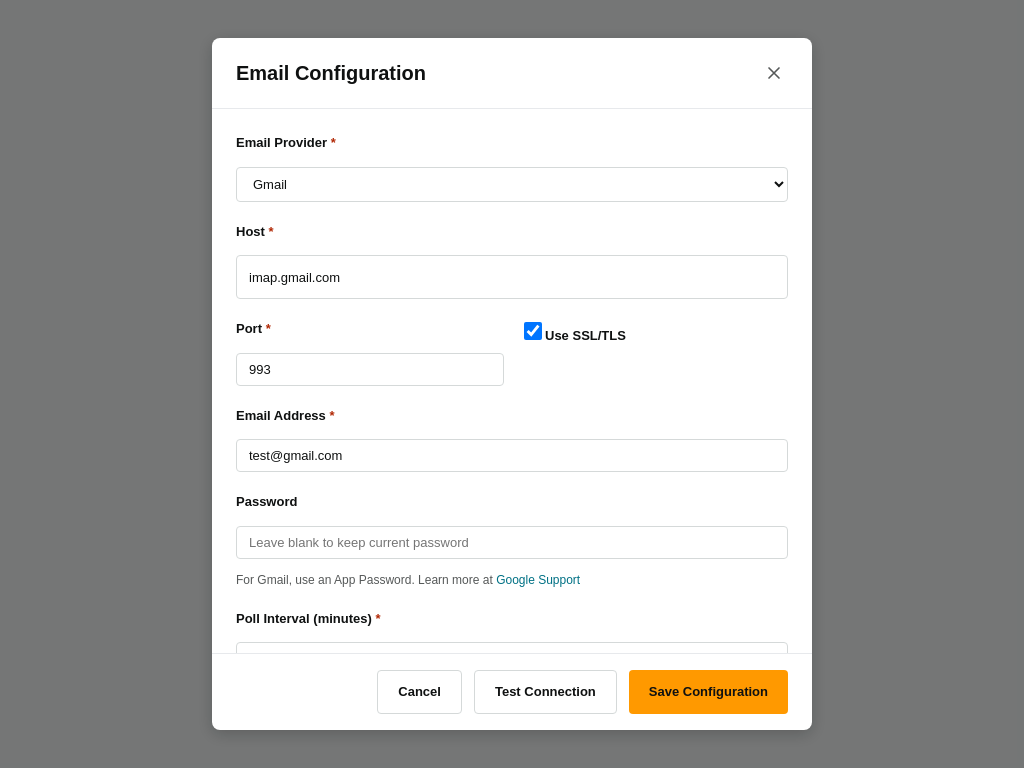
Test case: EmailConfigDialog › Test Connection › should show error message when test fails
Click the button "Test Connection".
click(545, 692)  # box [474,670,617,714]
(page scrolled)
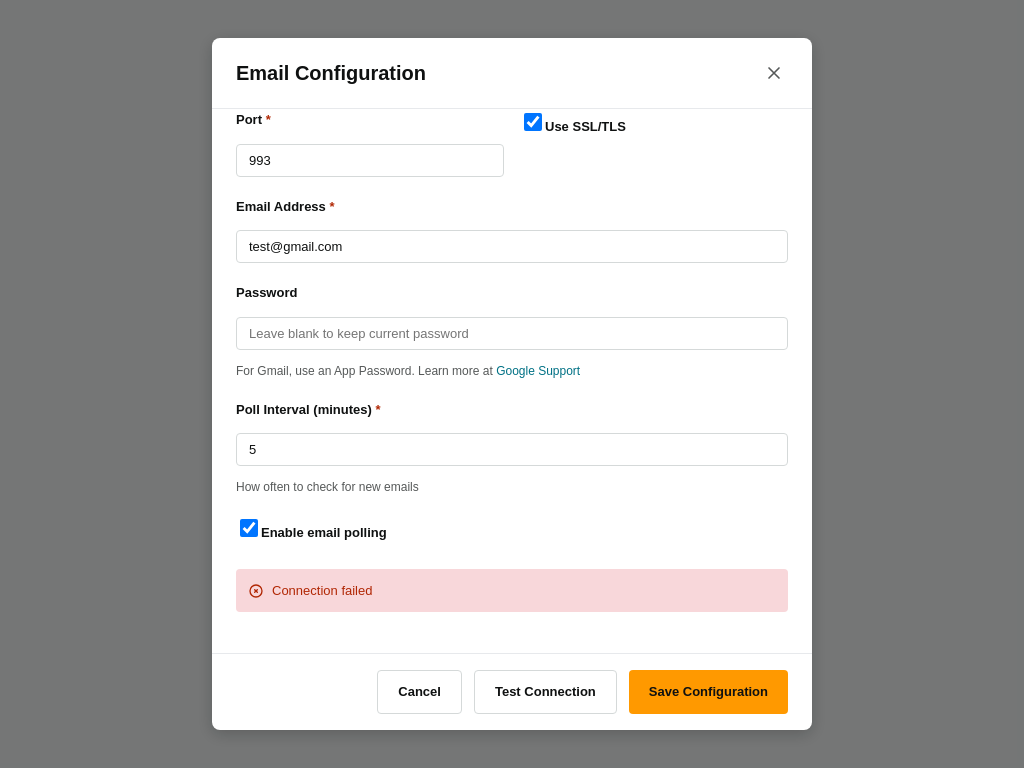
Expected: the text "Connection failed" is shown, [272,581,372,600]
